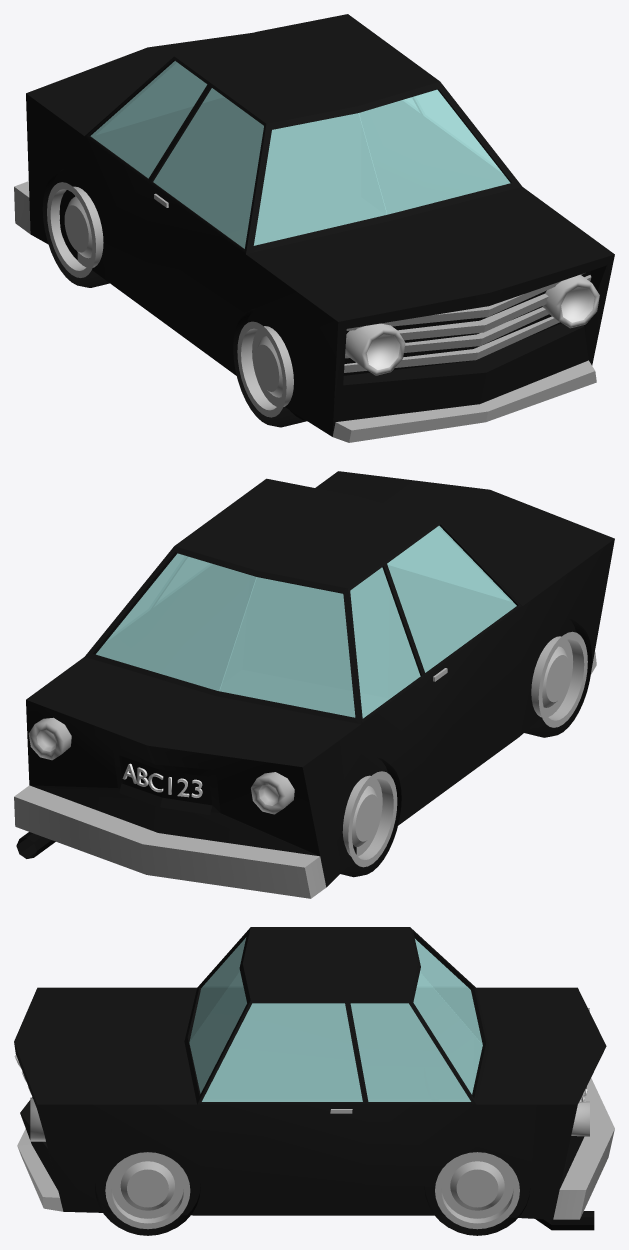
Rendered from blackcar.fbx.
3 views of the same model, one above another, from view 1: azimuth 30°, elevation 25°; view 2: azimuth 150°, elevation 25°; view 3: azimuth 270°, elevation 25° (orthographic). The views are drawn at different scales.
Parts seen in each view (by area): view 1: CarBody.001, WheelRightBack.001|Circle.002|Dupli|1, WheelRightFront.001|Circle.002|Dupli|1, FrontLights.001; view 2: CarBody.001, WheelRightBack.001|Circle.002|Dupli|1, WheelRightFront.001|Circle.002|Dupli|1, BackLights.001, Plate.001, Circle.001; view 3: CarBody.001, WheelLeftFront.001|Circle.002|Dupli|1, WheelLeftBack.001|Circle.002|Dupli|1, Circle.001, BackLights.001, FrontLights.001.
Part boxes in pixels (bbox=[...]): CarBody.001: bbox=[14, 14, 614, 442]; WheelRightBack.001|Circle.002|Dupli|1: bbox=[233, 308, 306, 427]; WheelRightFront.001|Circle.002|Dupli|1: bbox=[42, 169, 109, 287]; FrontLights.001: bbox=[345, 274, 599, 375]; CarBody.001: bbox=[14, 471, 614, 898]; WheelRightBack.001|Circle.002|Dupli|1: bbox=[524, 618, 591, 737]; WheelRightFront.001|Circle.002|Dupli|1: bbox=[340, 758, 401, 877]; BackLights.001: bbox=[28, 717, 294, 814]; Plate.001: bbox=[122, 763, 202, 797]; Circle.001: bbox=[16, 832, 55, 858]; CarBody.001: bbox=[14, 927, 614, 1219]; WheelLeftFront.001|Circle.002|Dupli|1: bbox=[95, 1152, 200, 1235]; WheelLeftBack.001|Circle.002|Dupli|1: bbox=[424, 1152, 530, 1235]; Circle.001: bbox=[535, 1211, 594, 1230]; BackLights.001: bbox=[571, 1008, 589, 1136]; FrontLights.001: bbox=[30, 1097, 45, 1141].
Size of the model in its own units: 221 by 170 by 435.
